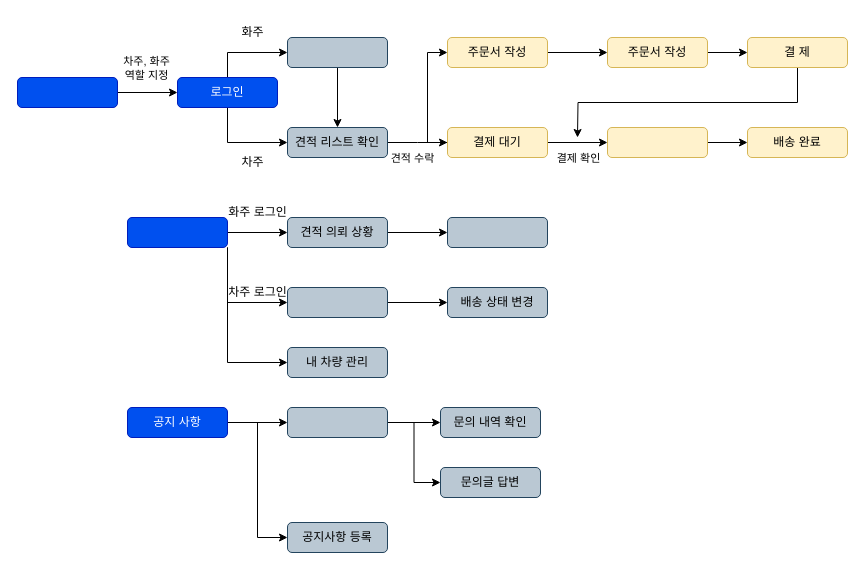
The diagram is 865 pixels wide and 570 high, and some of its shapes have lost their labels. The centre of each missing label's shape, as x and y in pixels:
"1:1 문의글 작성" goes at pixel 337 422.
"견적서 작성" goes at pixel 337 52.
"마이 페이지" goes at pixel 177 232.
"물품 배송" goes at pixel 657 142.
"배송 관리 확인" goes at pixel 337 302.
"배송 상태 확인" goes at pixel 497 232.
"회원가입" goes at pixel 67 92.
